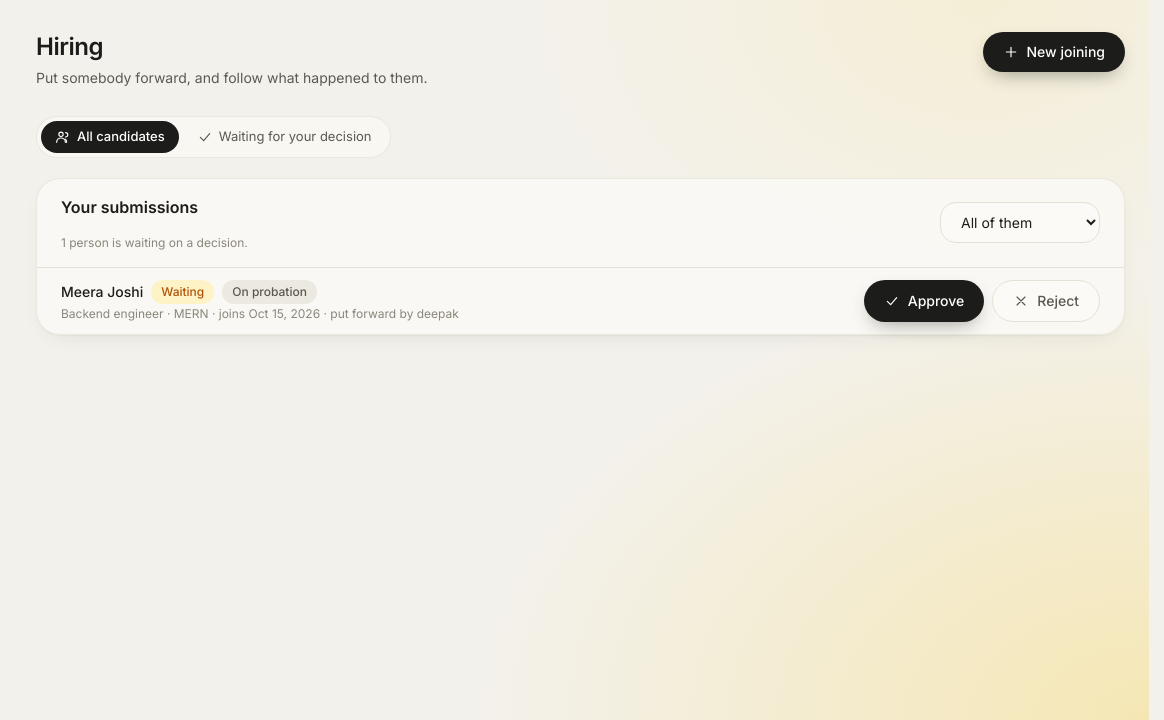
it: the switch between everybody and what waits on you › opens on everybody, and moves to the waiting ones through the address
Expected: the text "Meera Joshi" is shown, [61, 282, 143, 302]
Click the link "Waiting for your decision": (284, 137) [197, 128, 372, 145]
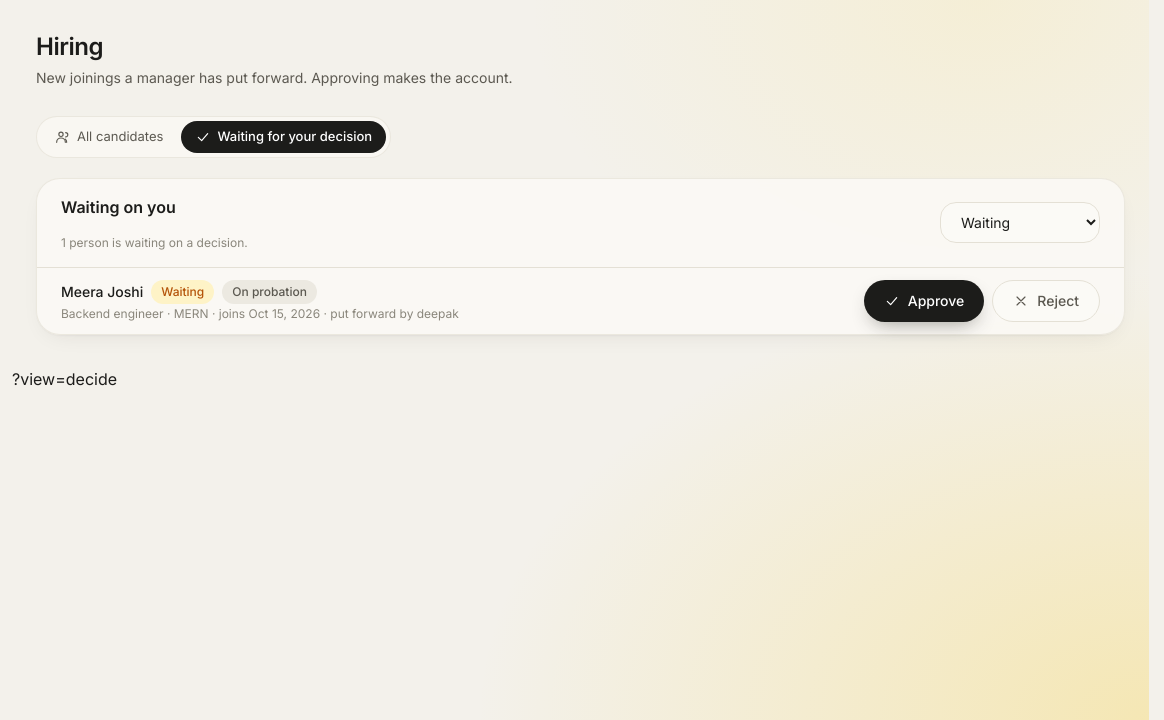
Expected: the text named "address" reads "?view=decide", [12, 369, 117, 389]
Expected: the heading "Waiting on you" is shown, [61, 197, 176, 217]
